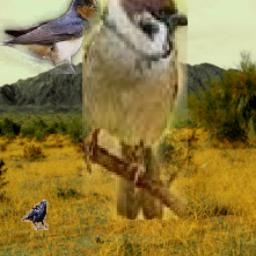Crow: (21, 200, 49, 230)
Sparrow: (83, 0, 189, 220)
Swallow: (1, 0, 102, 75)
